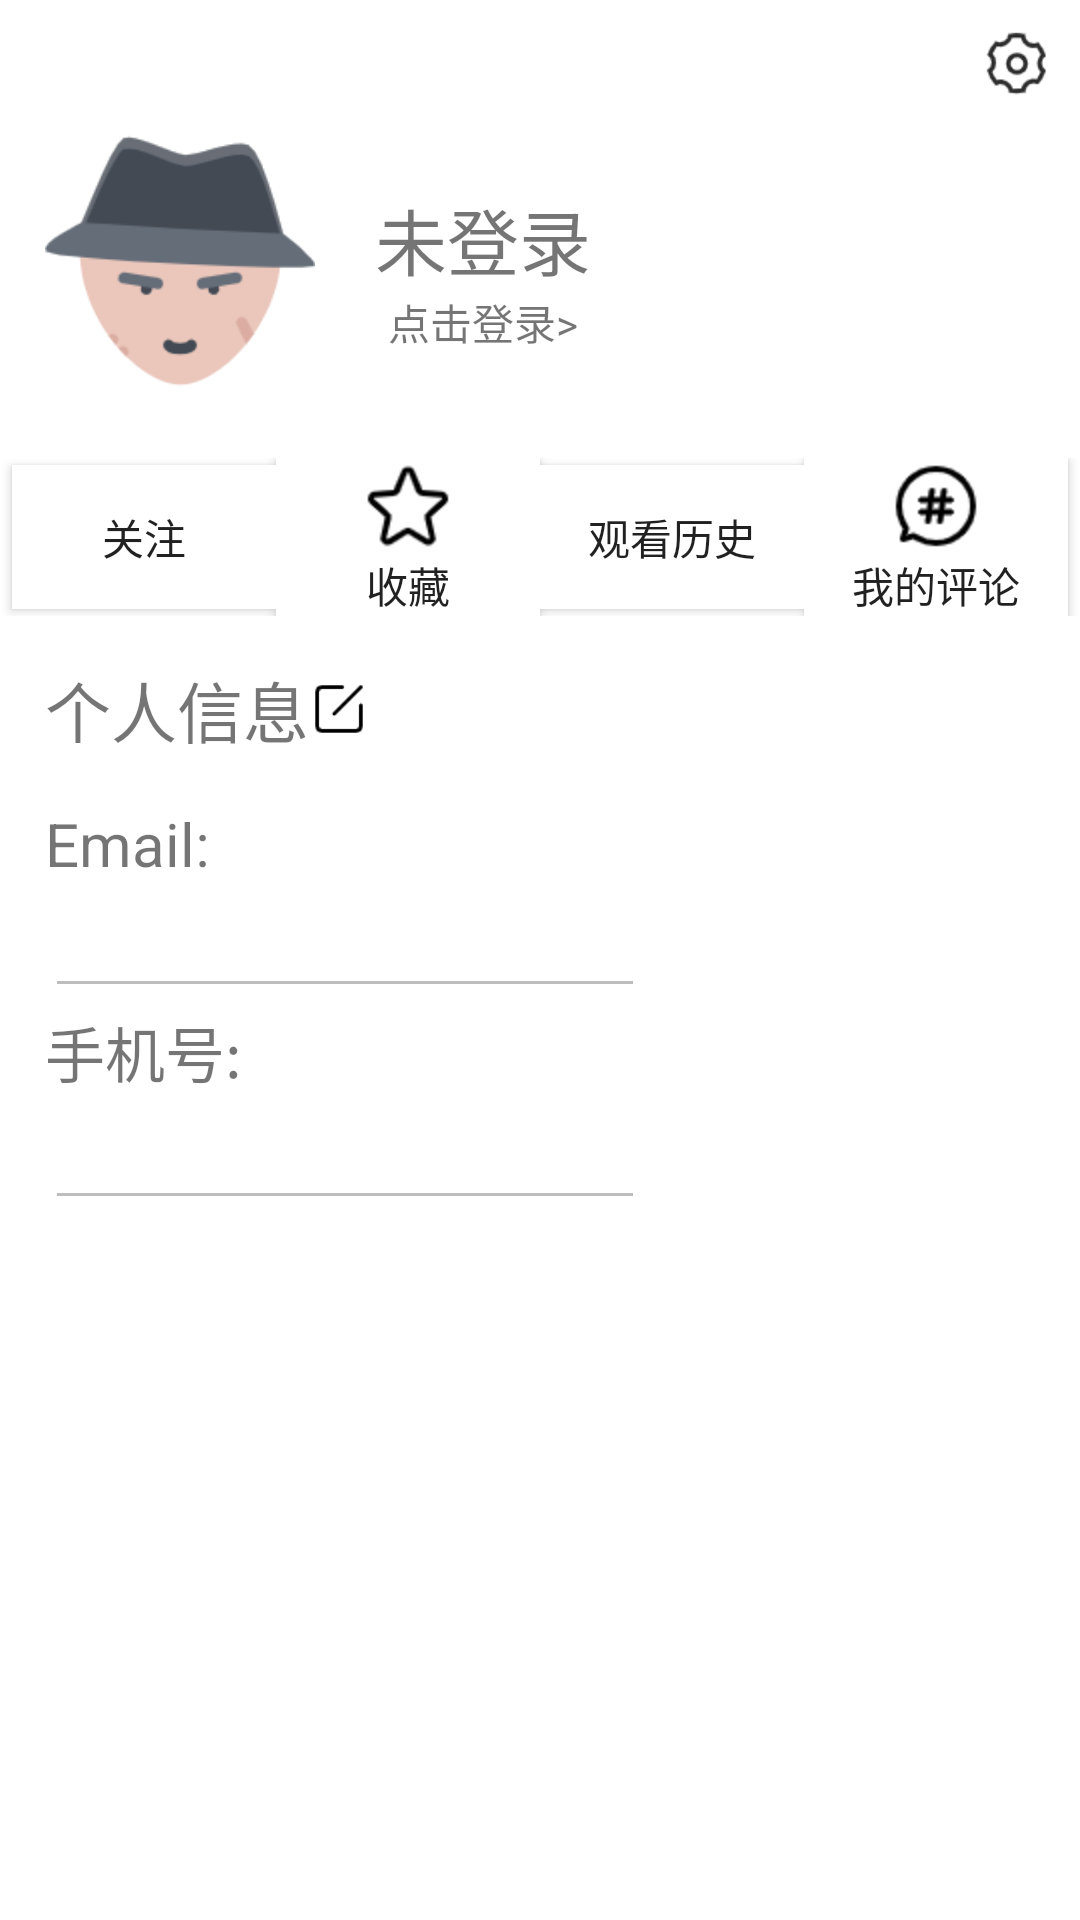

Icon bounding boxes for this 1080 x 1920 phone screenshot, format (x1, y1, x2, y2):
bandit: (45, 136, 315, 385)
edit: (315, 685, 363, 733)
settings: (987, 32, 1046, 94)
